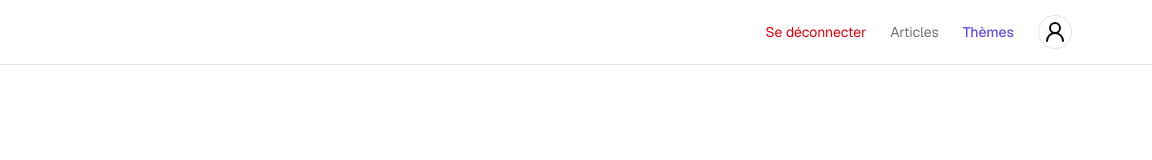
SiteHeader › affiche une erreur si la déconnexion échoue
Click the button "Se déconnecter" at (816, 32), box 765,22 -> 866,42
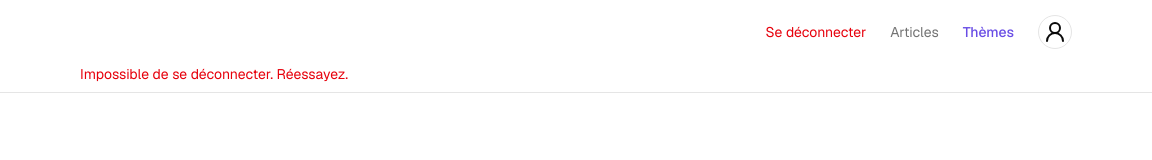
Check: the message reads "Impossible de se déconnecter. Réessayez.", box 80,65 -> 348,83
